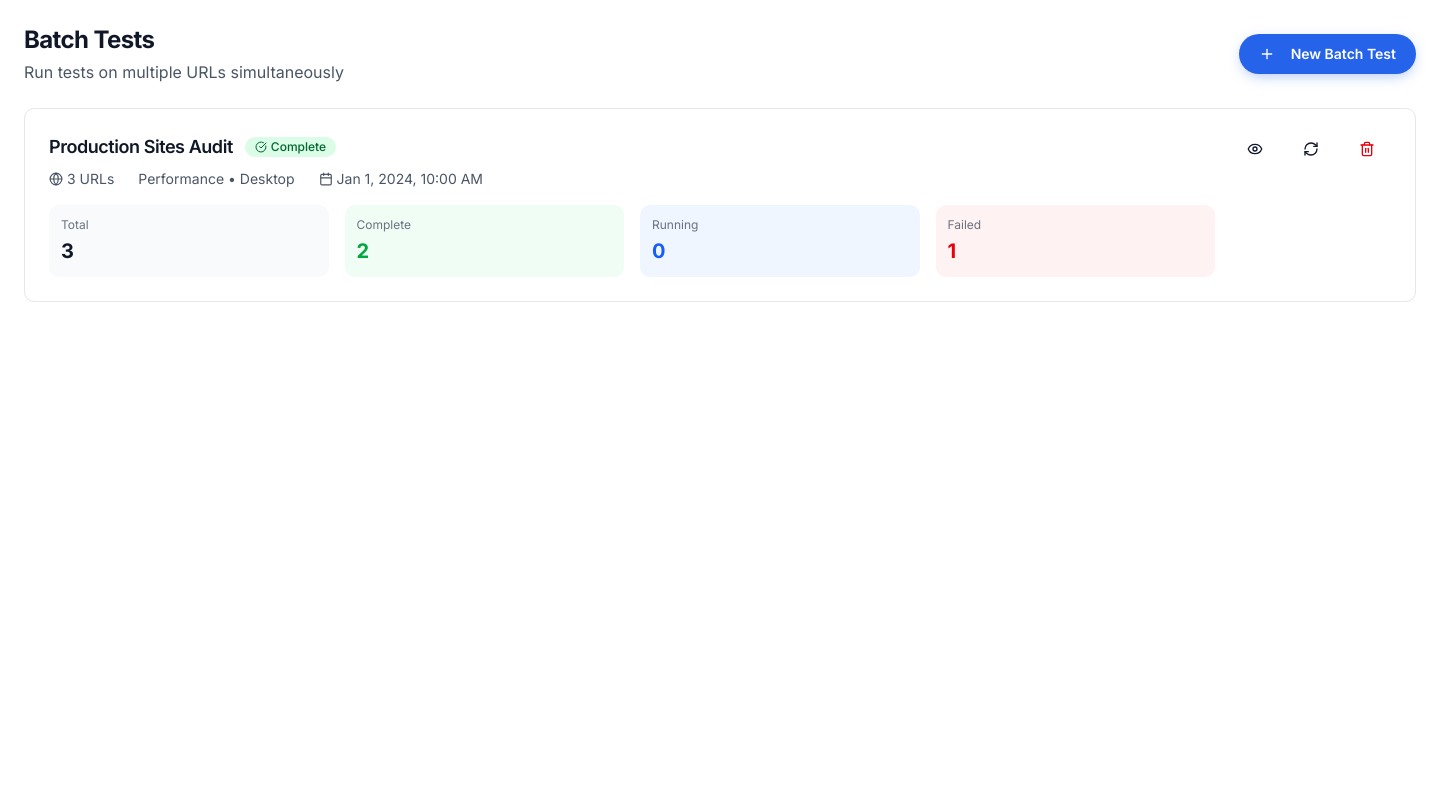
Scenario: BatchTestsPage › should validate required fields
Step 1. Click the button "New Batch Test" → [1327, 54], box [1239,34,1416,74]
(page scrolled)
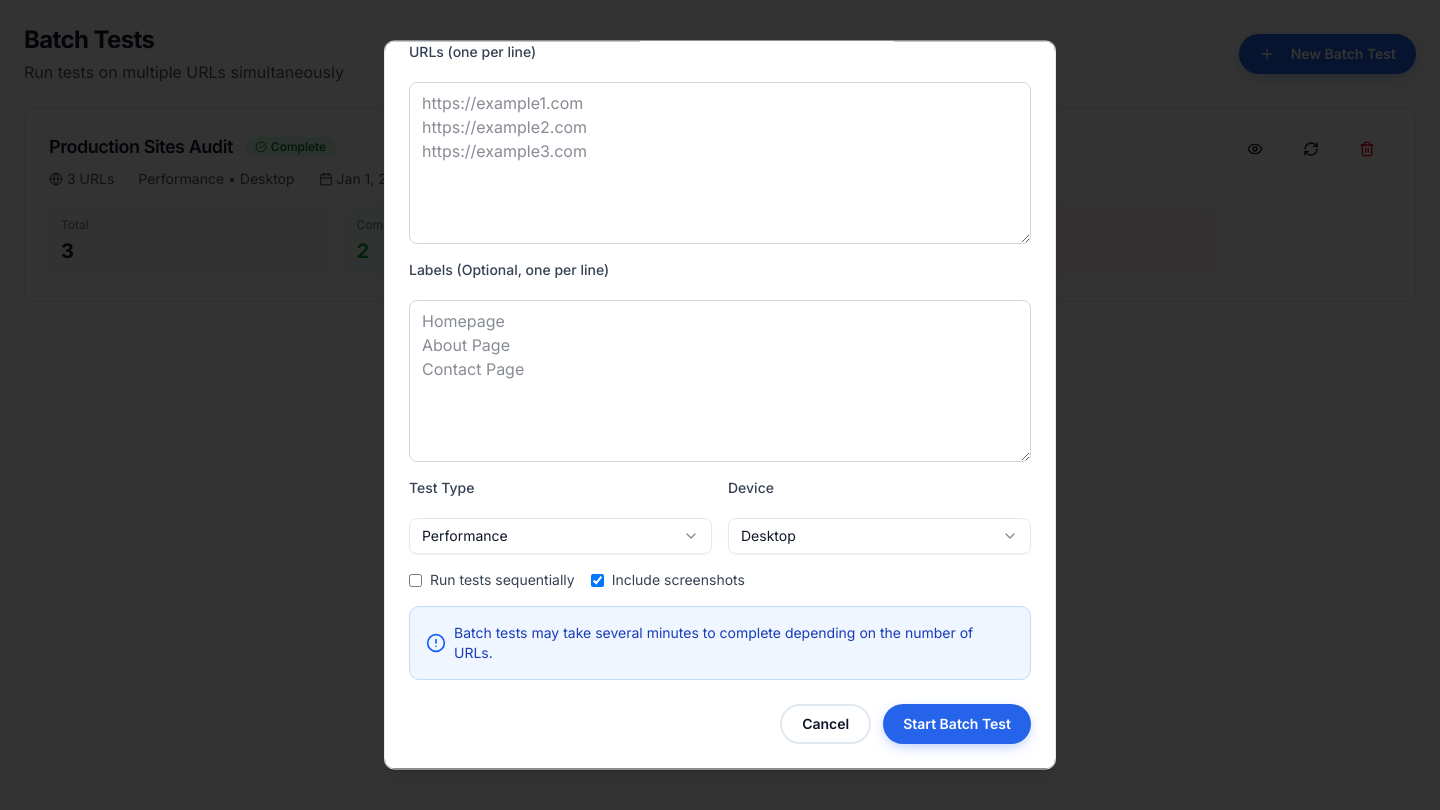
Step 2. Click the button "Start Batch Test" → [957, 724], box [883,704,1031,744]
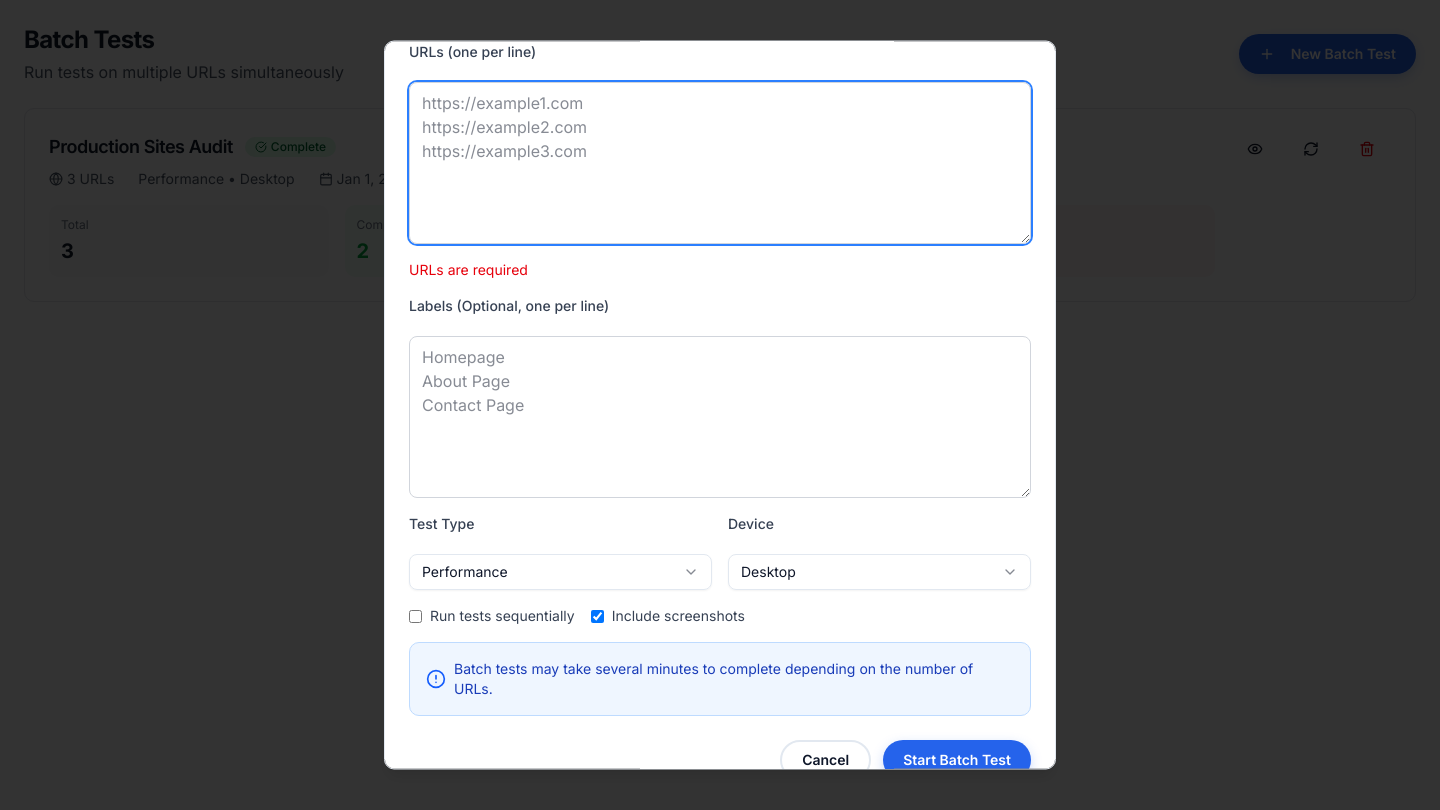
Expected: the text "URLs are required" is shown, [409,262,528,278]
